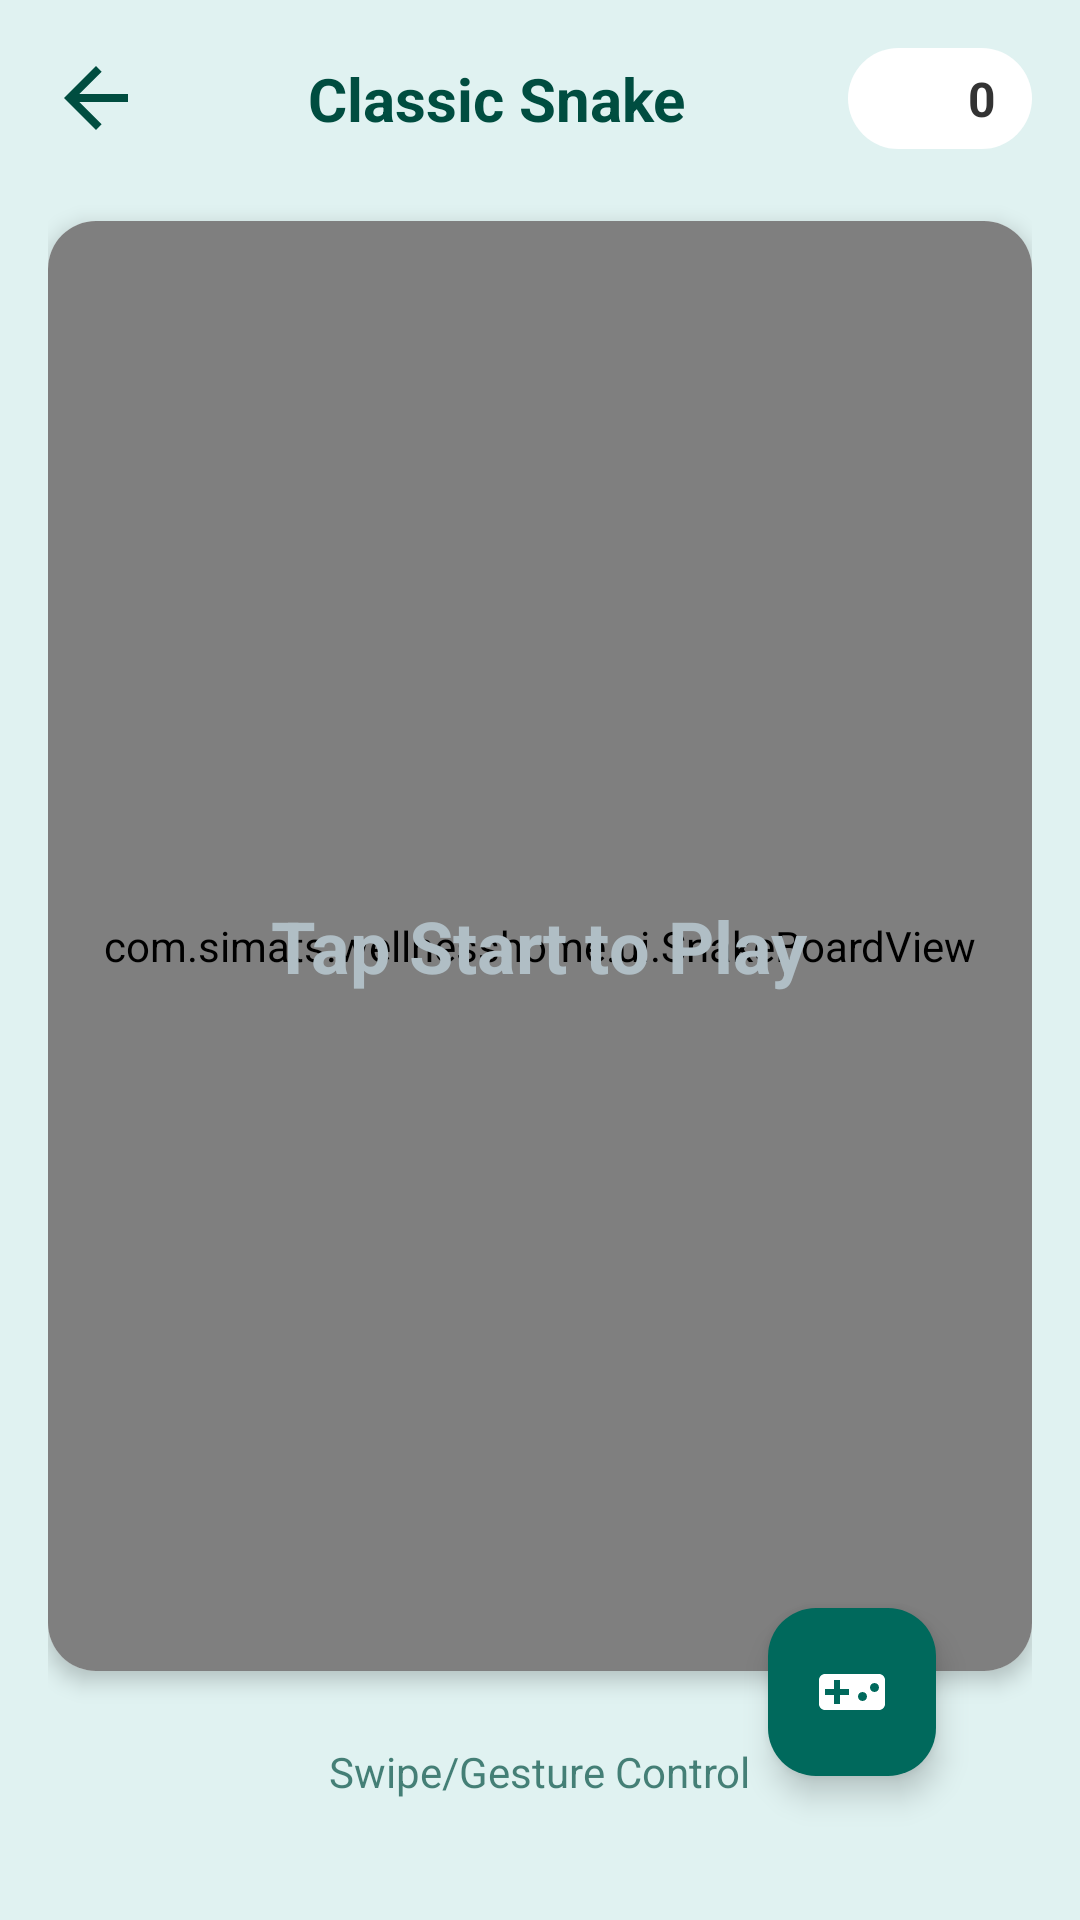

Screen size 1080x1920. Icon name, then its center in pixels as (x=x, y=y):
arrow back: (x=96, y=98)
gamepad: (x=852, y=1692)
